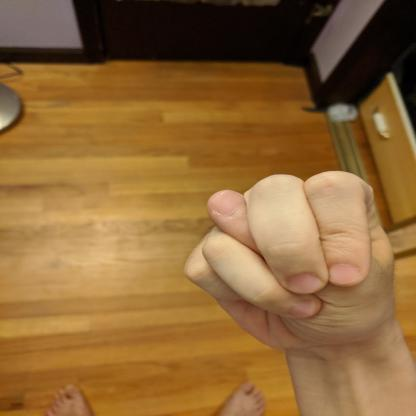N: (178, 166, 400, 356)
